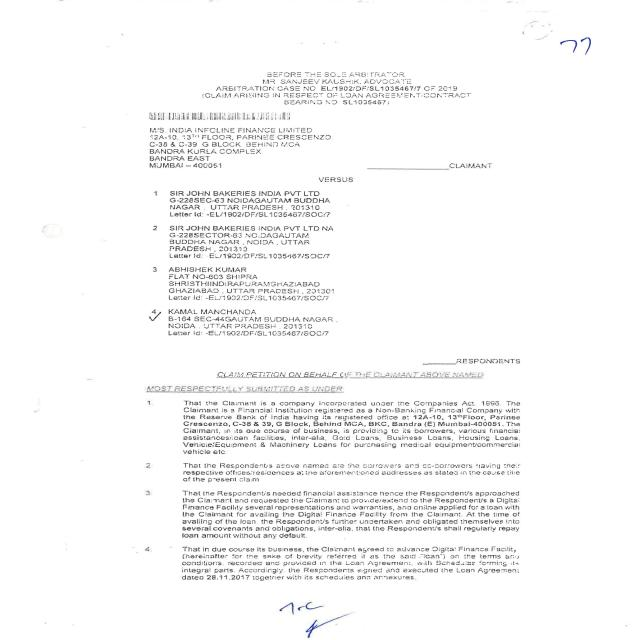page-number: (477, 36, 633, 157)
